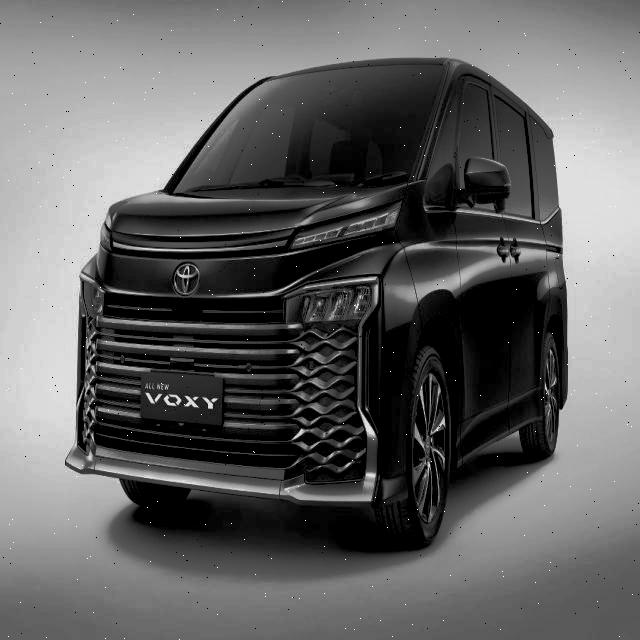Car: (63, 35, 579, 561)
